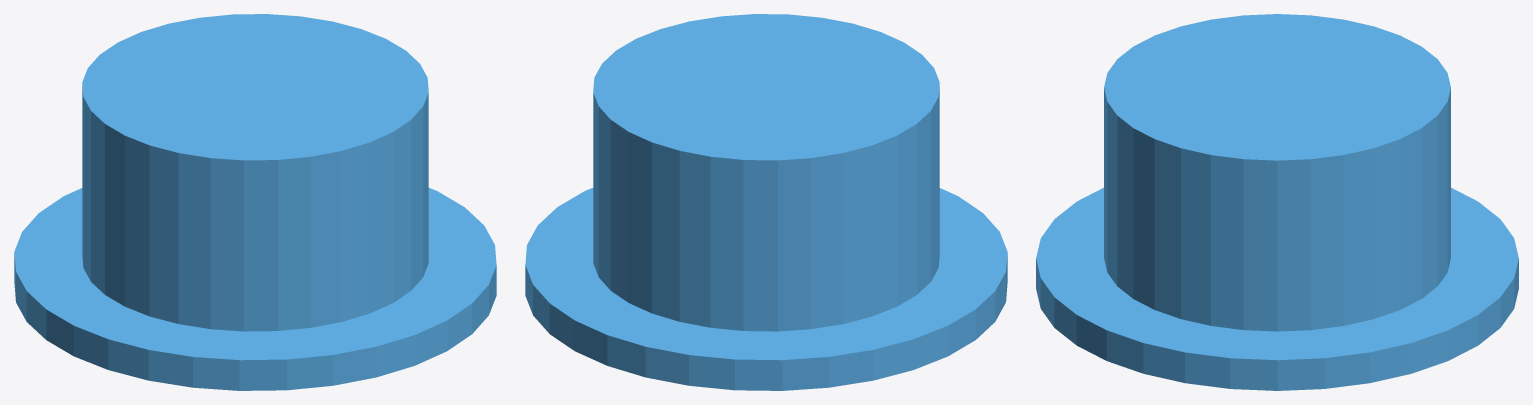
Rendered from hat.glb.
3 renders of one model, left to right at view 1: azimuth 30°, elevation 25°; view 2: azimuth 150°, elevation 25°; view 3: azimuth 270°, elevation 25°, orthographic.
Visible parts, largest first — view 1: hat; view 2: hat; view 3: hat.
Boxes of the visible parts, box(x1,y1,x2,y2) form: hat: box(14, 14, 496, 390); hat: box(525, 14, 1007, 390); hat: box(1036, 14, 1518, 390).
Size of the model in its own units: 0.64 by 0.295 by 0.64.
